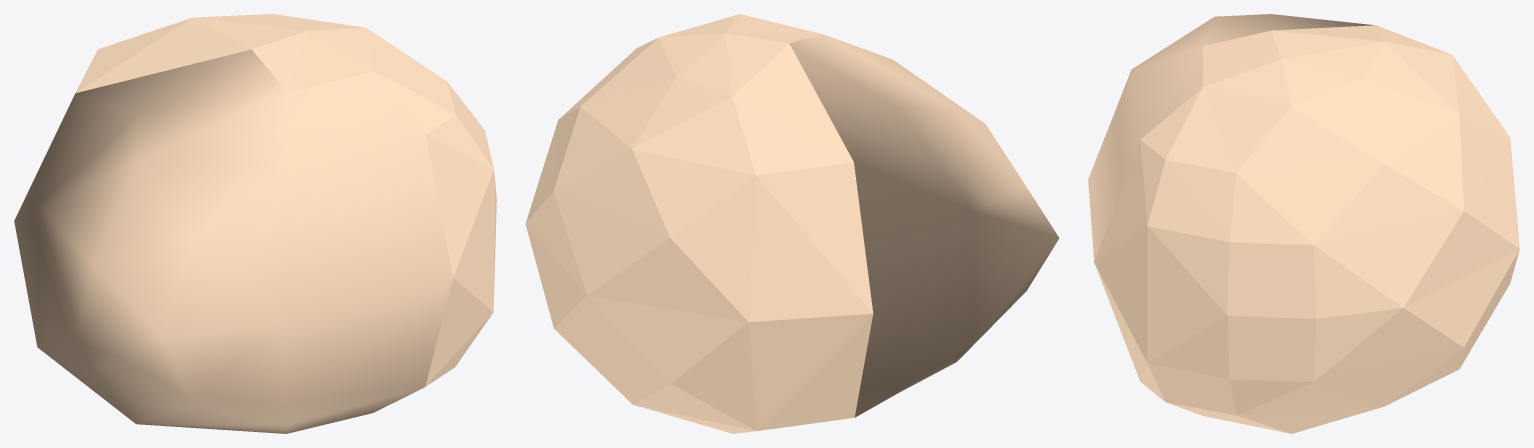
File: hair34.glb
3 views of the same model, side by side, from view 1: azimuth 30°, elevation 25°; view 2: azimuth 150°, elevation 25°; view 3: azimuth 270°, elevation 25° (orthographic). The views are drawn at different scales.
Visible parts, largest first — view 1: head 0, tomodachi-2026-03-21-14-50-36-226.008; view 2: tomodachi-2026-03-21-14-50-36-226.008, head 0; view 3: tomodachi-2026-03-21-14-50-36-226.008, head 0.
Part boxes in pixels (x1,y1,x2,y2): head 0: (14,49,453,433); tomodachi-2026-03-21-14-50-36-226.008: (15,14,496,386); tomodachi-2026-03-21-14-50-36-226.008: (525,14,873,433); head 0: (789,34,1059,417); tomodachi-2026-03-21-14-50-36-226.008: (1094,25,1519,433); head 0: (1088,14,1373,261).
Size of the model in its own units: 1.33 by 1.04 by 1.13.
2 materials, 2 textured.
